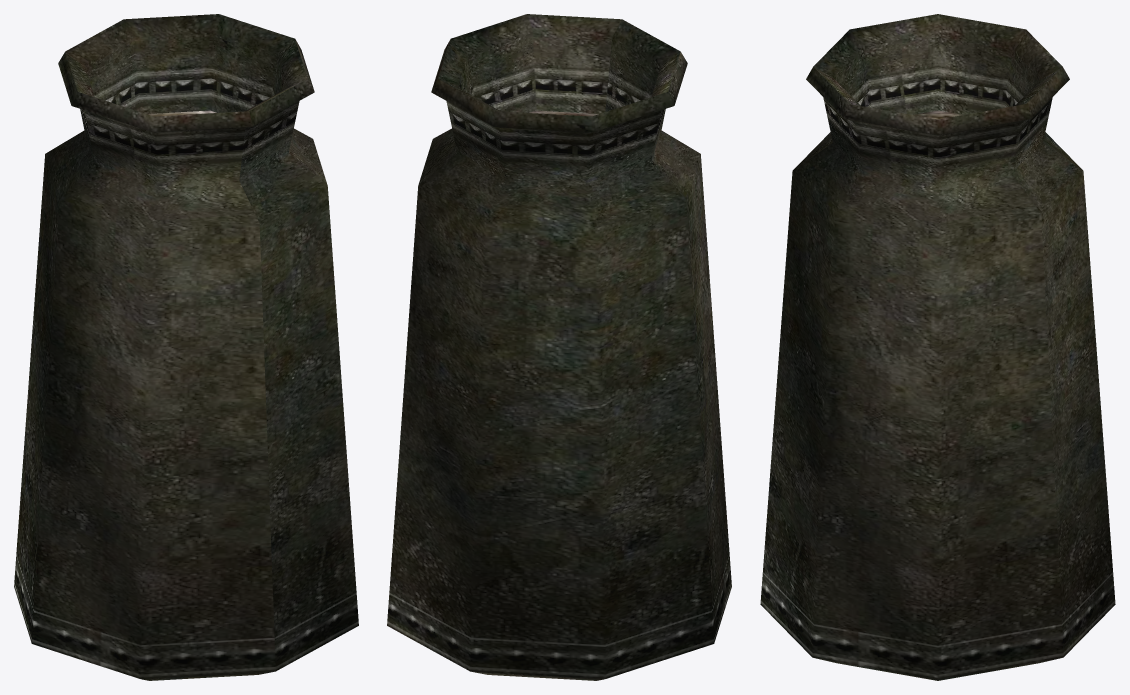
Rendered from KM_VOB_METAL_FOODCONTAINER_03.glb.
3 renders of one model, left to right at view 1: azimuth 30°, elevation 25°; view 2: azimuth 150°, elevation 25°; view 3: azimuth 270°, elevation 25°, orthographic.
Visible parts, largest first — view 1: Mesh; view 2: Mesh; view 3: Mesh.
Part boxes in pixels (x1,y1,x2,y2): Mesh: (14, 14, 358, 680); Mesh: (387, 14, 731, 680); Mesh: (760, 14, 1115, 680).
Size of the model in its own units: 0.3399 by 0.5849 by 0.3399.
Materials: 2 (2 with a texture image).
